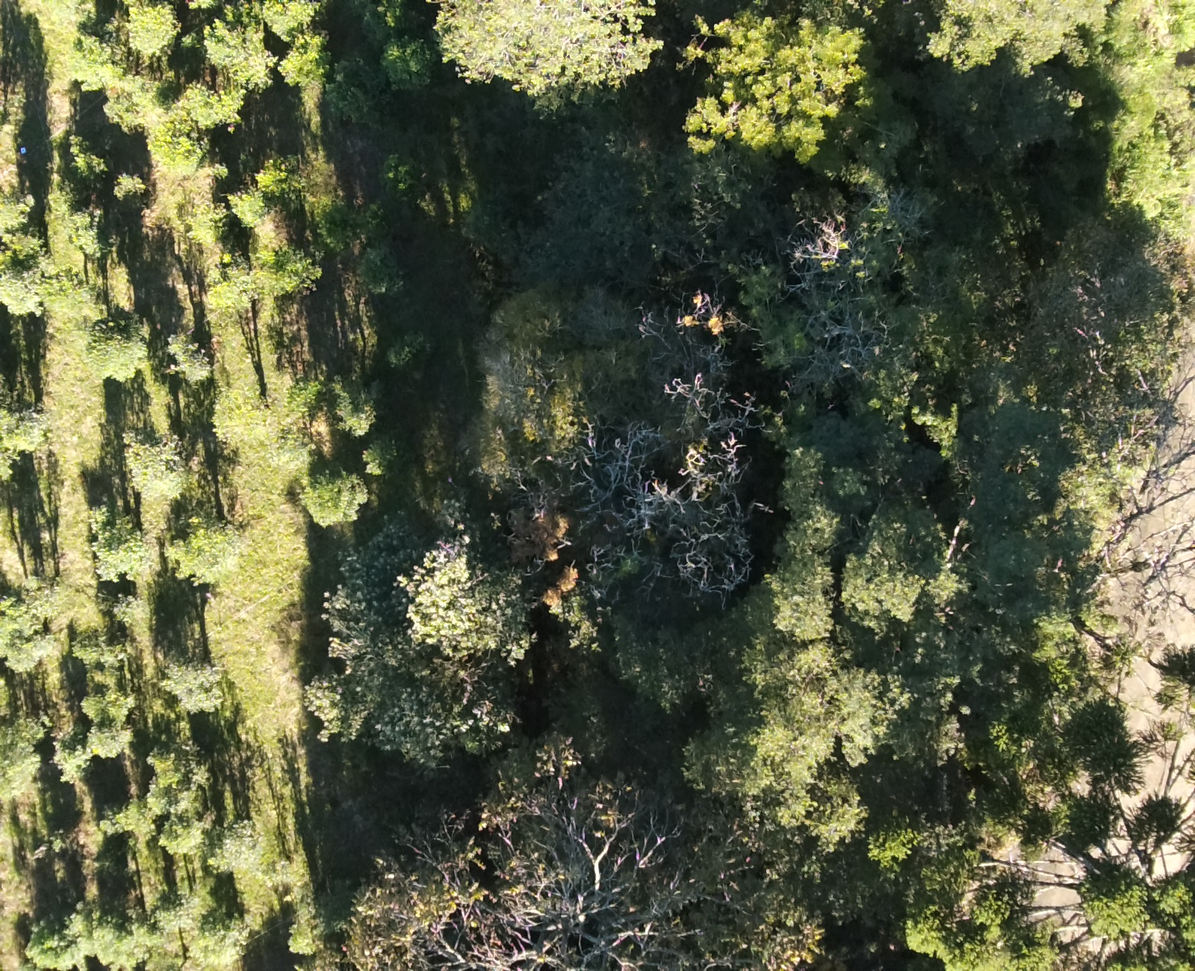erva: (164, 509, 258, 589), (80, 499, 149, 585), (290, 467, 367, 533), (305, 194, 388, 255), (161, 652, 234, 712), (88, 905, 153, 970), (21, 902, 84, 969), (89, 312, 154, 376), (212, 814, 266, 876), (196, 910, 251, 970), (161, 332, 220, 386), (161, 804, 220, 858), (349, 243, 401, 298), (110, 797, 156, 854), (51, 734, 99, 787), (19, 573, 67, 624), (0, 229, 49, 278), (1, 403, 52, 449), (0, 750, 46, 801), (150, 893, 208, 932), (181, 200, 225, 248), (361, 432, 405, 478), (4, 700, 46, 748), (0, 276, 49, 317), (228, 186, 268, 235), (90, 716, 134, 760), (170, 772, 207, 822), (103, 591, 155, 626), (142, 742, 181, 782), (1, 642, 42, 680), (129, 779, 172, 814), (0, 184, 31, 230), (73, 686, 105, 727), (91, 640, 128, 673), (113, 169, 148, 202), (29, 632, 55, 666), (103, 686, 130, 718), (69, 631, 91, 669)
